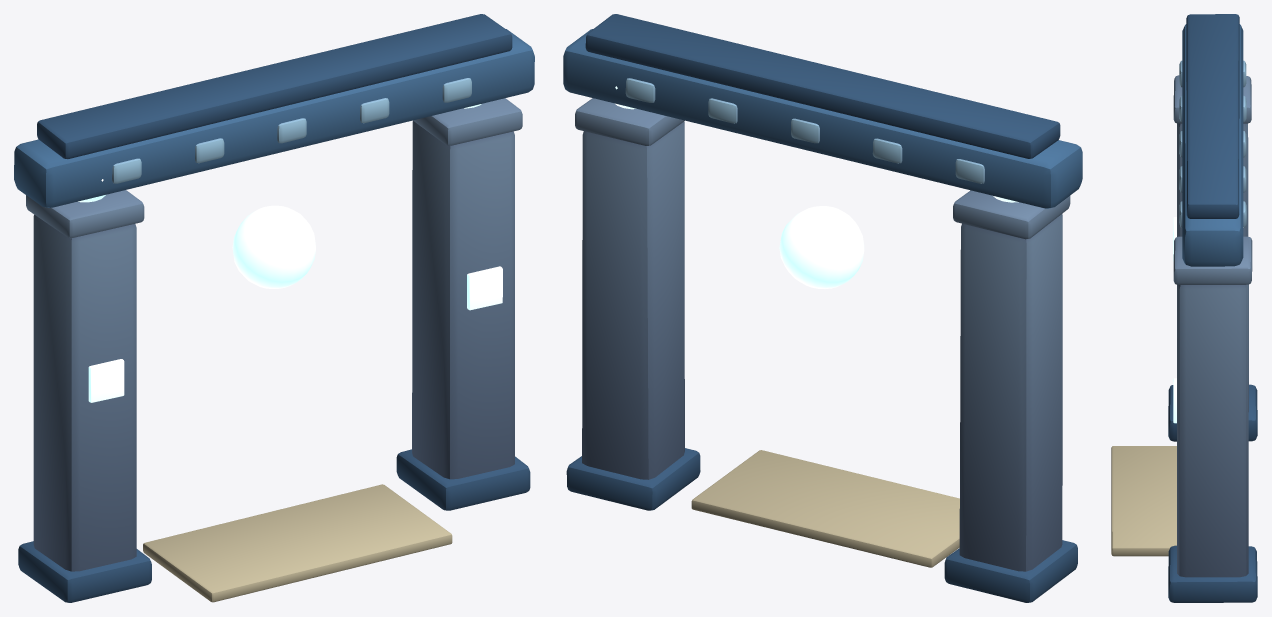
The picture shows the model from 3 angles, left to right: view 1: azimuth 30°, elevation 25°; view 2: azimuth 150°, elevation 25°; view 3: azimuth 270°, elevation 25°; orthographic projection. The views are drawn at different scales.
Visible parts, largest first — view 1: gate_18261f0a; view 2: gate_18261f0a; view 3: gate_18261f0a.
Part boxes in pixels (<box>): gate_18261f0a: <box>14,14,534,602</box>; gate_18261f0a: <box>563,14,1082,602</box>; gate_18261f0a: <box>1111,14,1257,602</box>.
Bounding box in the file's own units: 4.91 × 4.33 × 1.44.
